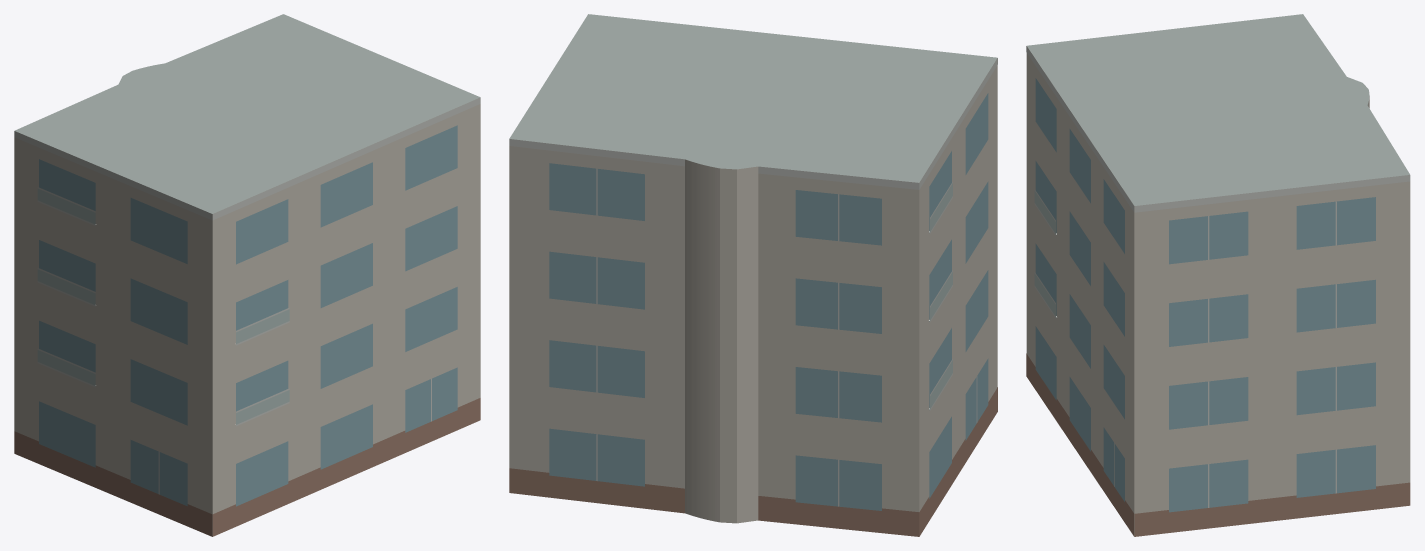
File: survey-upis-32725124.glb
3 renders of one model, left to right at view 1: azimuth 30°, elevation 25°; view 2: azimuth 150°, elevation 25°; view 3: azimuth 270°, elevation 25°, orthographic. The views are drawn at different scales.
Parts seen in each view (by area): view 1: survey-upis-32725124.tmp; view 2: survey-upis-32725124.tmp; view 3: survey-upis-32725124.tmp.
Part boxes in pixels (<box>): survey-upis-32725124.tmp: <box>14,14,480,536</box>; survey-upis-32725124.tmp: <box>509,14,997,536</box>; survey-upis-32725124.tmp: <box>1026,14,1410,536</box>.
Size of the model in its own units: 15.2 by 12.2 by 12.84.
